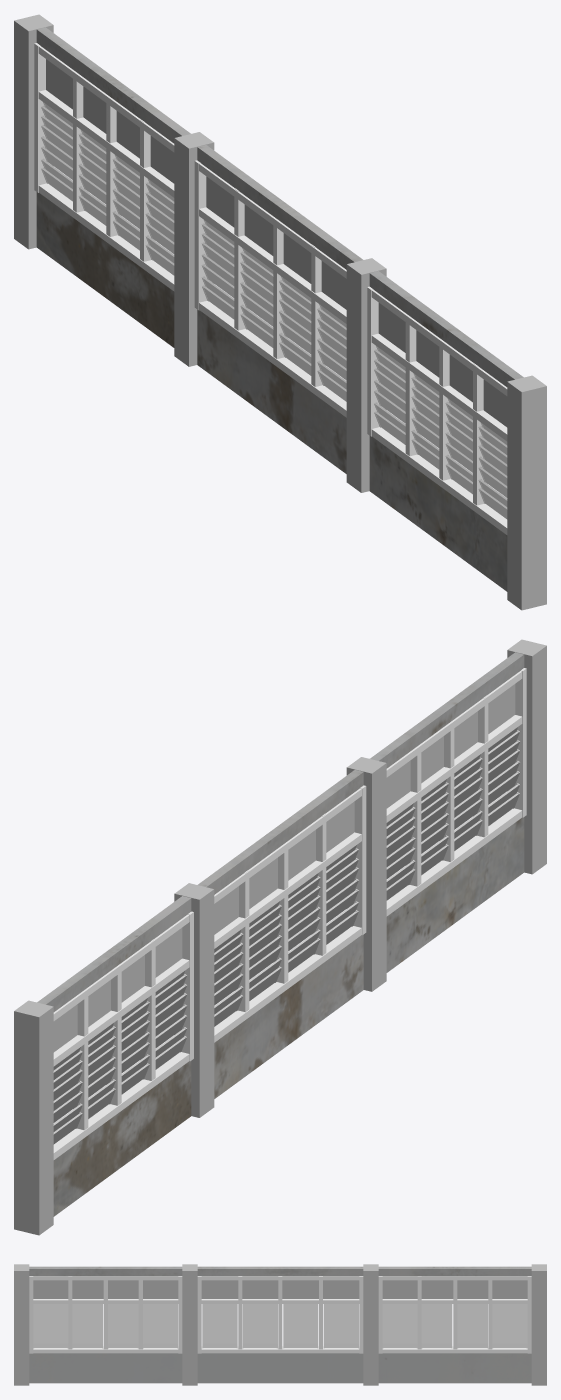
Rendered from Class_Wall_2.fbx.
3 renders of one model, top to bottom at view 1: azimuth 30°, elevation 25°; view 2: azimuth 150°, elevation 25°; view 3: azimuth 270°, elevation 25°, orthographic. The views are drawn at different scales.
Visible parts, largest first — view 1: Floor__38__11, Cube__12__123, Cube__12__191, Cube__12__279, pCube4, pCube2, pCube1, pCube3, Cube__12__24, polySurface3, polySurface4; view 2: Floor__38__11, Cube__12__123, Cube__12__191, Cube__12__279, pCube3, pCube2, pCube1, pCube4, Cube__12__24, polySurface3, polySurface4; view 3: Floor__38__11, Cube__12__123, Cube__12__279, Cube__12__191, Cube__12__24, polySurface4, polySurface3, pCube1, pCube2, pCube3, pCube4, Cube__12__43 (+90 smaller).
Boxes of the visible parts, box(x1,y1,x2,y2) form: Floor__38__11: box(36, 27, 523, 591); Cube__12__123: box(194, 160, 346, 417); Cube__12__191: box(367, 286, 507, 534); Cube__12__279: box(34, 43, 174, 291); pCube4: box(507, 375, 546, 610); pCube2: box(346, 258, 386, 492); pCube1: box(174, 132, 214, 366); pCube3: box(14, 14, 53, 249); Cube__12__24: box(206, 176, 346, 309); polySurface3: box(378, 303, 507, 427); polySurface4: box(46, 59, 174, 183); Floor__38__11: box(37, 652, 524, 1216); Cube__12__123: box(214, 785, 366, 1042); Cube__12__191: box(386, 668, 526, 916); Cube__12__279: box(53, 911, 193, 1159); pCube3: box(14, 1000, 53, 1235); pCube2: box(346, 757, 386, 991); pCube1: box(174, 883, 214, 1117); pCube4: box(507, 639, 546, 874); Cube__12__24: box(214, 801, 354, 934); polySurface3: box(386, 684, 515, 808); polySurface4: box(53, 928, 182, 1052); Floor__38__11: box(29, 1266, 531, 1383); Cube__12__123: box(197, 1276, 363, 1353); Cube__12__279: box(378, 1276, 531, 1353); Cube__12__191: box(29, 1276, 182, 1353); Cube__12__24: box(201, 1280, 359, 1298); polySurface4: box(382, 1280, 527, 1298); polySurface3: box(33, 1280, 178, 1298); pCube1: box(363, 1264, 378, 1385); pCube2: box(182, 1264, 197, 1385); pCube3: box(531, 1264, 546, 1385); pCube4: box(14, 1264, 29, 1385); Cube__12__43: box(203, 1337, 236, 1343).
Size of the model in its own units: 33.68 by 279 by 1174.
